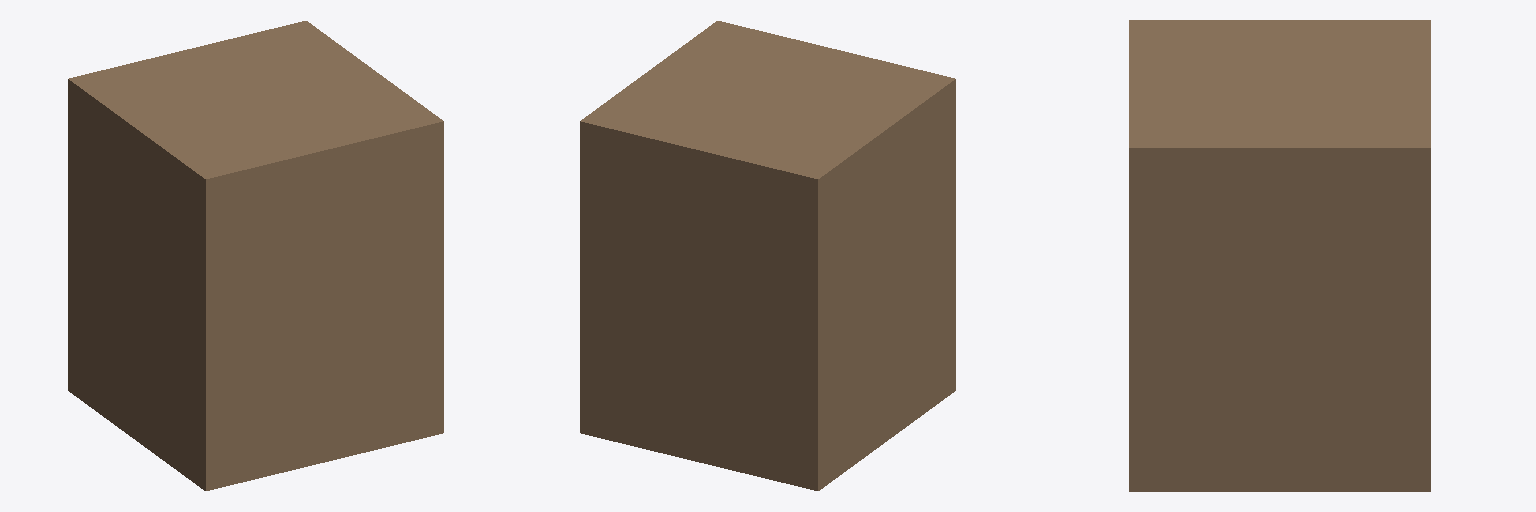
URDF robot description (blue_can):
<robot name="blue_can">

` <link name="can">
    <contact>
      <lateral_friction value="1"/>
    </contact>
    <inertial>
      <mass value="0.01"/>
      <inertia ixx="1.0" ixy="0.0" ixz="0.0" iyy="1.0" iyz="0.0" izz="1.0"/>
    </inertial>
    <visual>
      <origin rpy="0 0 0" xyz="0 0 0"/>
      <geometry>
        <box size = "0.12 0.12 0.15"/>
      </geometry>
      <material name = "blue">
        <color rgba="0.6 0.5 0.4 1"/>
      </material>
    </visual>
    <collision>
      <origin rpy="0 0 0" xyz="0 0 0"/>
      <geometry>
        <box size = "0.1 0.1 0.15"/>
      </geometry>
    </collision>
  </link>

</robot>

--- Facts derived from the render (not from the file) ---
The picture shows the robot from 3 angles, left to right: view 1: azimuth 30°, elevation 25°; view 2: azimuth 150°, elevation 25°; view 3: azimuth 270°, elevation 25°; orthographic projection.
Robot: blue_can — 1 links, 0 joints (none); root link can; default pose: every joint at zero.
Links seen in each view (by area): view 1: can; view 2: can; view 3: can.
Boxes of the visible links, <box> form: can: <box>68,21,443,490</box>; can: <box>580,21,955,490</box>; can: <box>1129,20,1430,491</box>.
Size in the robot's own frame: 0.12 by 0.12 by 0.15 metres.
Geometry: primitives only (box / cylinder / sphere), no mesh files.